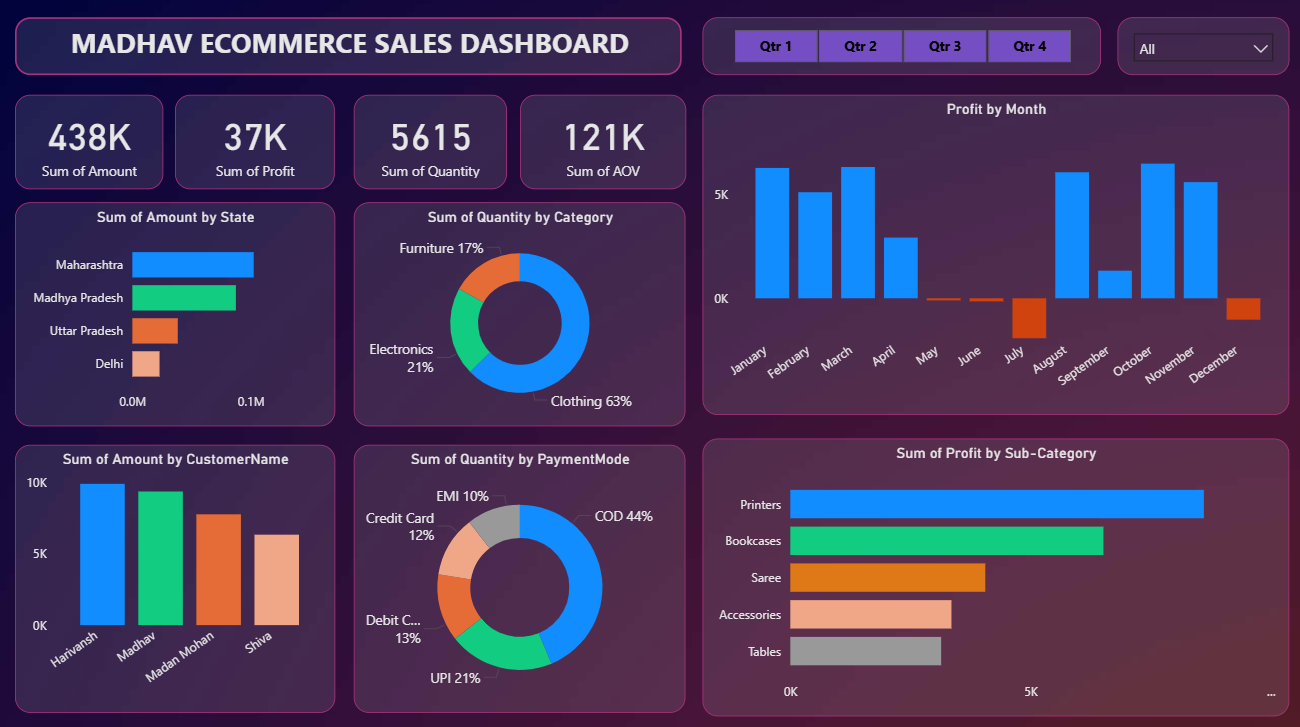

The dashboard page shown, as its layout file describes it:
{"tool":"powerbi","page":{"name":"Page 1","canvas":[1280,720],"ordinal":0},"visuals":[{"type":"columnChart","title":"Profit by Month","fields":{"Y":["Details.Profit"],"Category":["Orders.Order Date.Variation.Date Hierarchy.Month"]},"box":[690,97.1,575.7,314.3],"z":0},{"type":"barChart","fields":{"Category":["Details.Sub-Category"],"Y":["Details.Profit"]},"box":[690,434.3,575.7,272.9],"z":1000},{"type":"donutChart","fields":{"Category":["Details.Category"],"Y":["Details.Quantity"]},"box":[347.1,202.9,325.7,220],"z":2000},{"type":"donutChart","fields":{"Y":["Details.Quantity"],"Category":["Details.PaymentMode"]},"box":[347.1,440,325.7,262.9],"z":3000},{"type":"card","fields":{"Values":["Details.Amount"]},"box":[14.3,97.1,145.7,92.9],"z":4000},{"type":"card","fields":{"Values":["Details.Profit"]},"box":[171.4,97.1,157.1,92.9],"z":5000},{"type":"card","fields":{"Values":["Details.Quantity"]},"box":[347.1,97.1,150,92.9],"z":6000},{"type":"card","fields":{"Values":["Details.AOV"]},"box":[510,97.1,162.9,92.9],"z":7000},{"type":"barChart","fields":{"Category":["Orders.State"],"Y":["Details.Amount"]},"box":[14.3,202.9,314.3,220],"z":8000},{"type":"columnChart","fields":{"Category":["Orders.CustomerName"],"Y":["Details.Amount"]},"box":[14.3,440,314.3,262.9],"z":9000},{"type":"textbox","title":"MADHAV ECOMMERCE SALES DASHBOARD ","box":[14.3,21.4,654.3,57.1],"z":10000},{"type":"slicer","fields":{"Values":["Orders.Order Date.Variation.Date Hierarchy.Quarter"]},"box":[690,21.4,391.4,57.1],"z":11000},{"type":"slicer","fields":{"Values":["Orders.State"]},"box":[1097.1,21.4,168.6,57.1],"z":12000}]}

Visuals, with their boxes in screenshot pixels (x1, y1, x2, y2), scaled from the page's 1280x720 canvas onto the 1300x727 screenshot:
"Profit by Month" columnChart: locate(701, 98, 1285, 415)
barChart - Details.Sub-Category x Details.Profit: locate(701, 439, 1285, 714)
donutChart - Details.Category x Details.Quantity: locate(353, 205, 683, 427)
donutChart - Details.Quantity x Details.PaymentMode: locate(353, 444, 683, 710)
card - Details.Amount: locate(15, 98, 162, 192)
card - Details.Profit: locate(174, 98, 334, 192)
card - Details.Quantity: locate(353, 98, 505, 192)
card - Details.AOV: locate(518, 98, 683, 192)
barChart - Orders.State x Details.Amount: locate(15, 205, 334, 427)
columnChart - Orders.CustomerName x Details.Amount: locate(15, 444, 334, 710)
"MADHAV ECOMMERCE SALES DASHBOARD " textbox: locate(15, 22, 679, 79)
slicer - Orders.Order Date.Variation.Date Hierarchy.Quarter: locate(701, 22, 1098, 79)
slicer - Orders.State: locate(1114, 22, 1285, 79)
